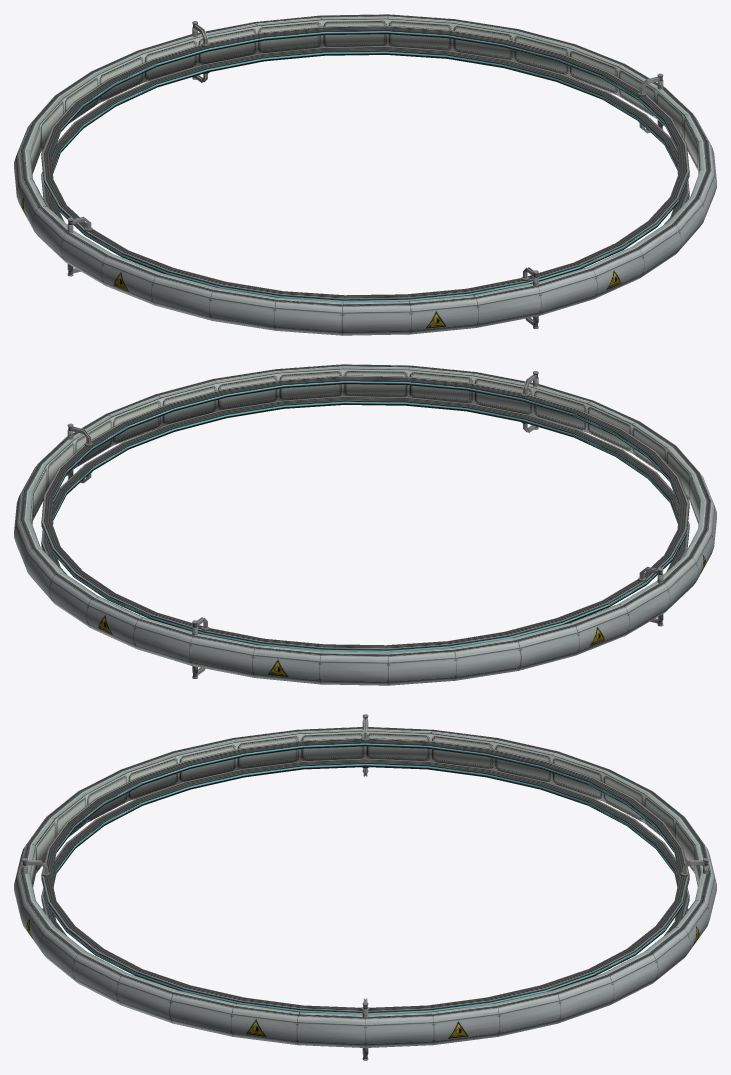
File: ring.glb
3 views of the same model, one above another, from view 1: azimuth 30°, elevation 25°; view 2: azimuth 150°, elevation 25°; view 3: azimuth 270°, elevation 25° (orthographic).
Visible parts, largest first — view 1: damo_portal_pit_ring_reference.smd_0; view 2: damo_portal_pit_ring_reference.smd_0; view 3: damo_portal_pit_ring_reference.smd_0.
Boxes of the visible parts, left/top/right/bottom form: damo_portal_pit_ring_reference.smd_0: left=14, top=14, right=716, bottom=335; damo_portal_pit_ring_reference.smd_0: left=14, top=364, right=716, bottom=685; damo_portal_pit_ring_reference.smd_0: left=14, top=714, right=716, bottom=1060.
Bounding box in the file's own units: 13.41 × 1.19 × 13.41.
1 material, 1 textured.
